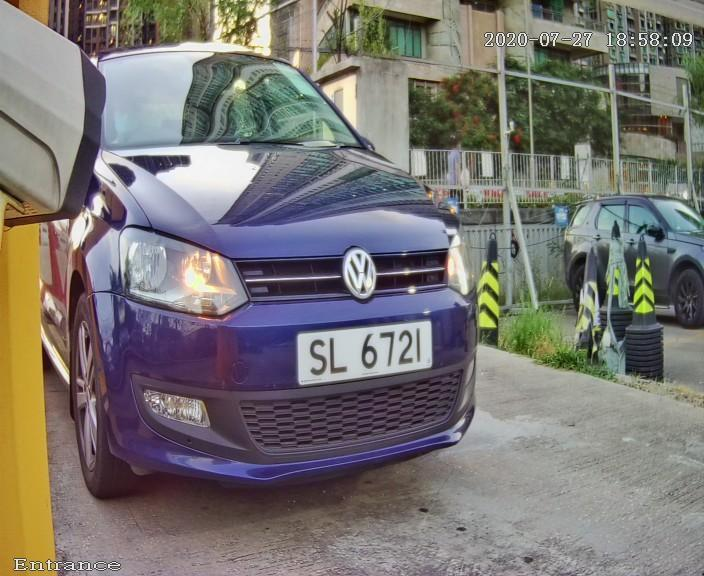privatecar: (26, 19, 529, 520)
